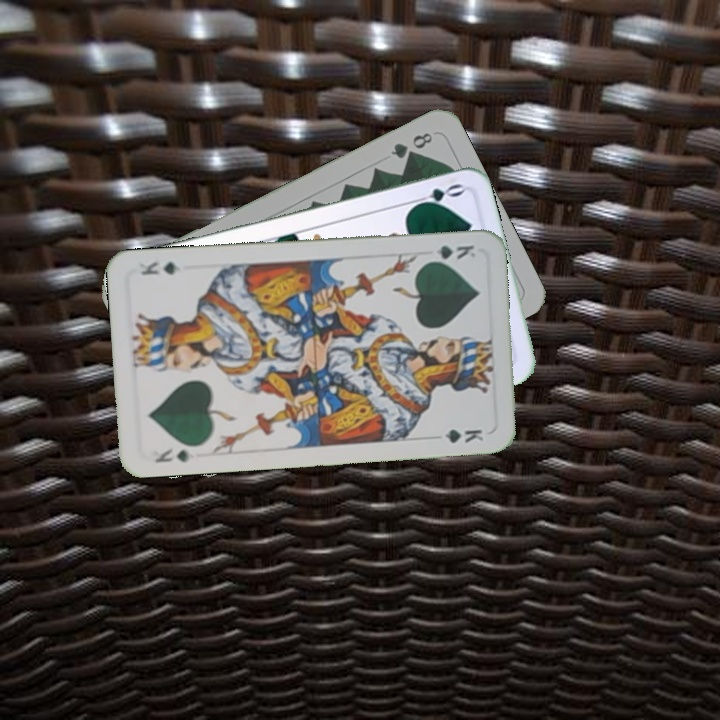G8: (386, 128, 436, 162)
GK: (421, 241, 478, 265), (151, 444, 192, 465)
GO: (407, 179, 466, 211)
